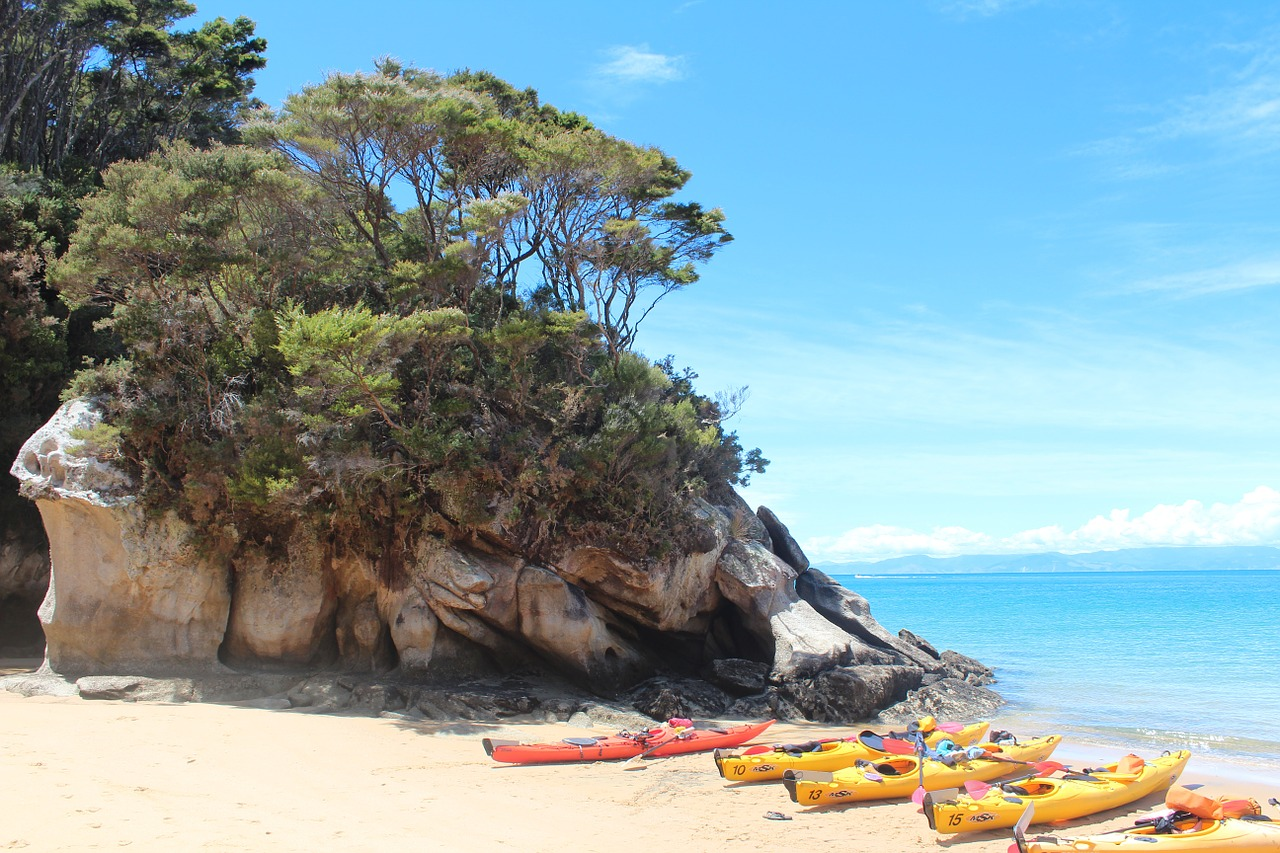kayak: (925, 749, 1197, 840), (780, 734, 1063, 810), (711, 719, 993, 785), (484, 710, 771, 767)
